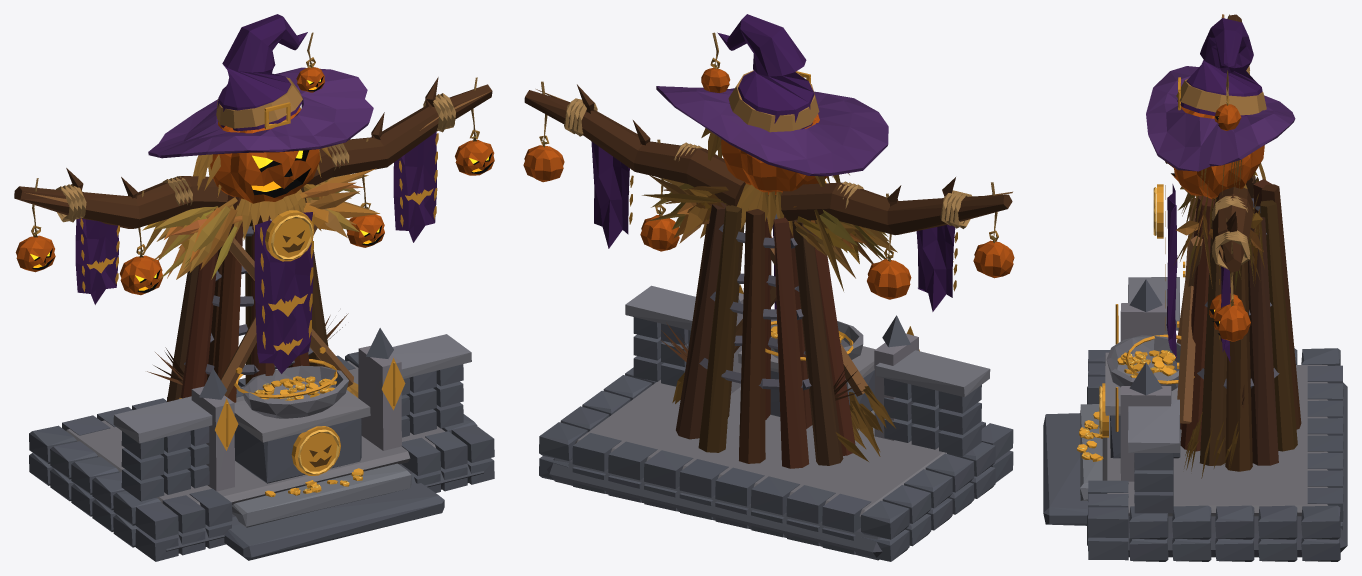
File: HalloweenOfferingShrine_LOD1.glb
3 renders of one model, left to right at view 1: azimuth 30°, elevation 25°; view 2: azimuth 150°, elevation 25°; view 3: azimuth 270°, elevation 25°, orthographic. The views are drawn at different scales.
Visible parts, largest first — view 1: Shrine_Structure, Shrine_Gold, Shrine_Embers; view 2: Shrine_Structure; view 3: Shrine_Structure, Shrine_Gold.
Part boxes in pixels (x1,y1,x2,y2): Shrine_Structure: (14,14,494,561); Shrine_Gold: (87,102,433,496); Shrine_Embers: (30,79,489,290); Shrine_Structure: (523,14,1014,561); Shrine_Structure: (1043,14,1347,561); Shrine_Gold: (1077,77,1194,461).
Bounding box in the file's own units: 6.43 × 5.8 × 3.46.
